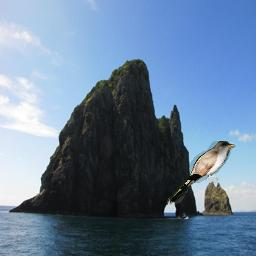Cuckoo: (167, 141, 236, 205)
